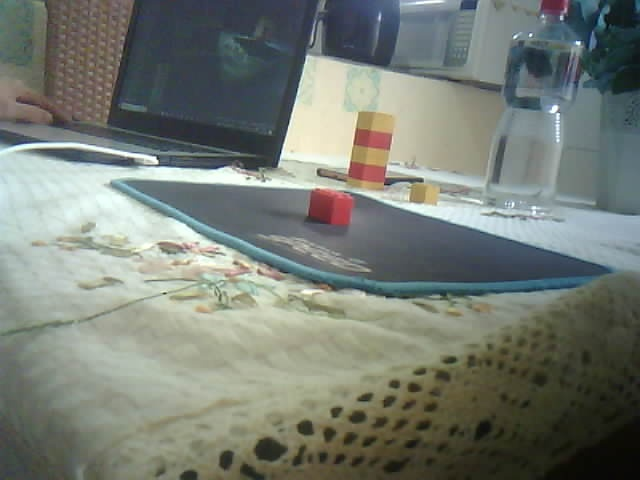lego: (346, 109, 396, 191), (306, 188, 354, 227), (408, 181, 442, 207)
